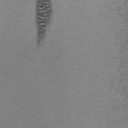oxide scale of plate system: (35, 0, 55, 53)
